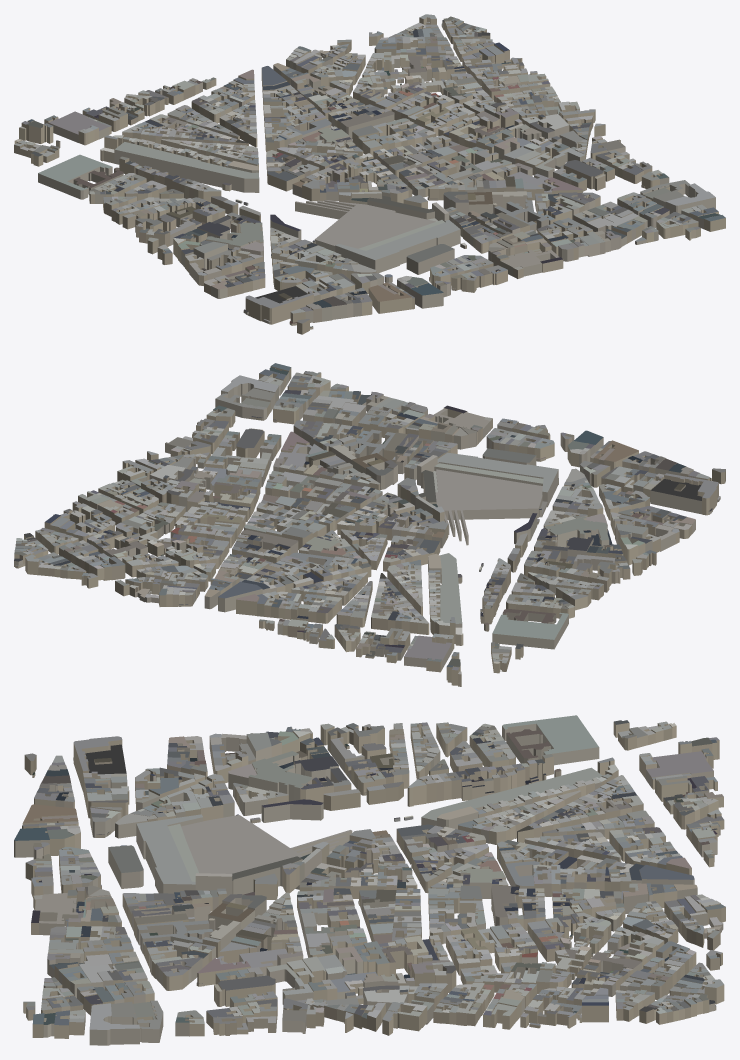
3 renders of one model, top to bottom at view 1: azimuth 30°, elevation 25°; view 2: azimuth 150°, elevation 25°; view 3: azimuth 270°, elevation 25°, orthographic. The views are drawn at different scales.
Visible parts, largest first — view 1: tuile; view 2: tuile; view 3: tuile.
Boxes of the visible parts, <box> form: tuile: <box>14,14,725,334</box>; tuile: <box>14,363,725,686</box>; tuile: <box>14,715,725,1045</box>.
Size of the model in its own units: 1064 by 65.21 by 1039.
